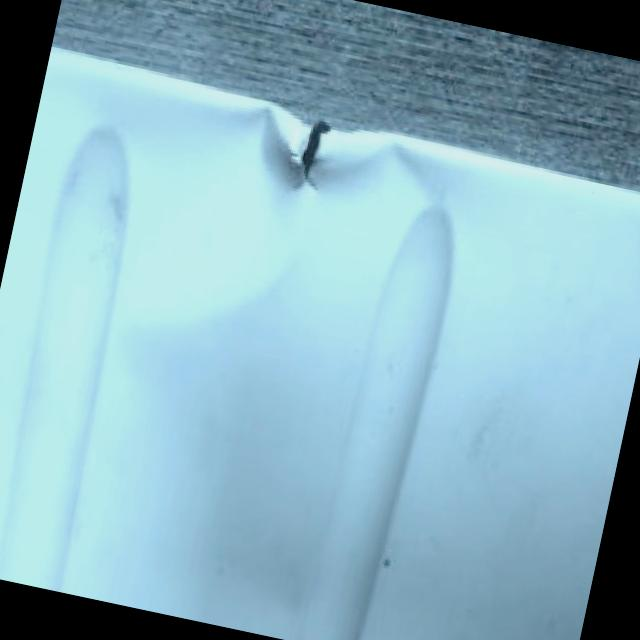crack: (282, 104, 344, 198)
